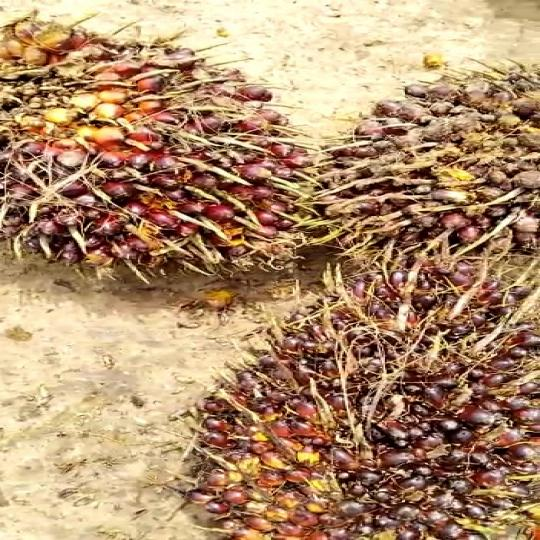kurang masak: (193, 266, 538, 540), (0, 12, 311, 308), (320, 46, 540, 270)
